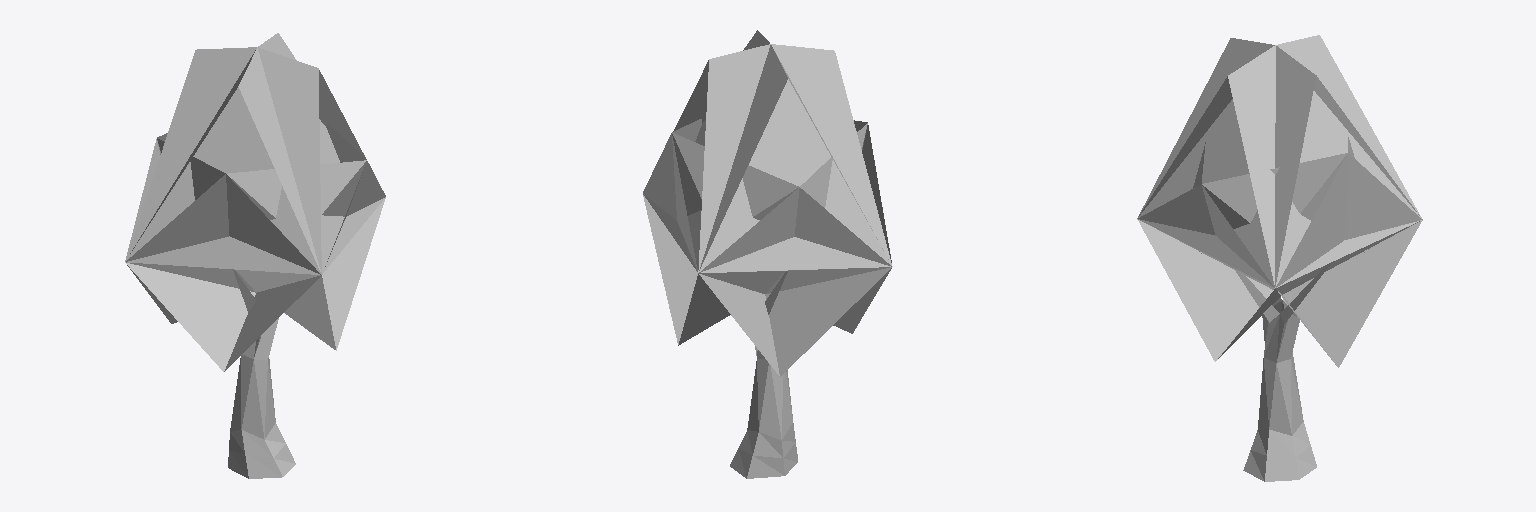
The model's file is elwynntreecanopy04.obj.
3 views of the same model, side by side, from view 1: azimuth 30°, elevation 25°; view 2: azimuth 150°, elevation 25°; view 3: azimuth 270°, elevation 25° (orthographic).
Parts seen in each view (by area): view 1: object 1; view 2: object 1; view 3: object 1.
Boxes of the visible parts, x1=… form: object 1: x1=125, y1=33, x2=385, y2=478; object 1: x1=643, y1=30, x2=892, y2=478; object 1: x1=1137, y1=35, x2=1422, y2=481.
Bounding box in the file's own units: 52.67 × 82.9 × 50.97.